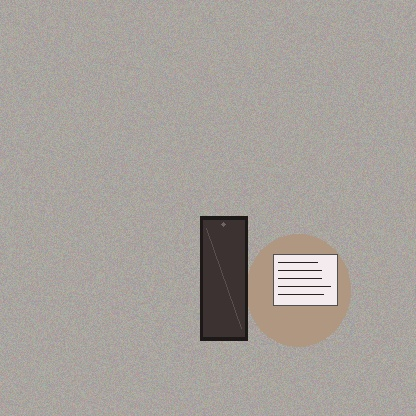cell_phone: (200, 216, 247, 340)
exam_chit: (273, 254, 337, 305)
